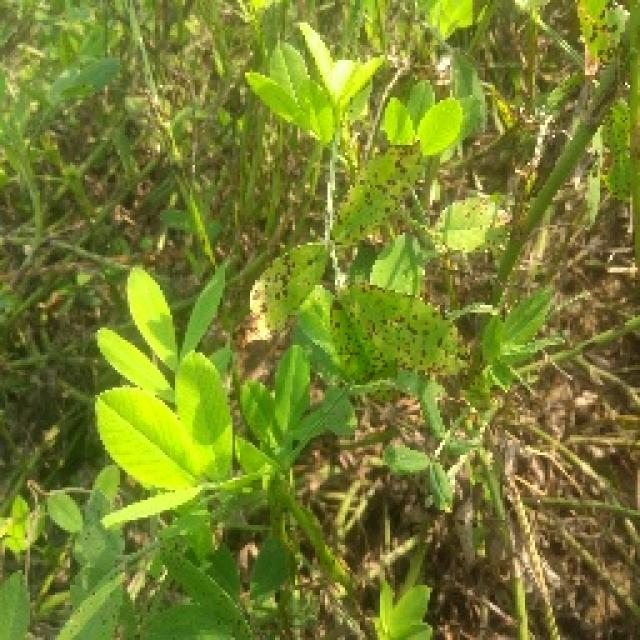Yellowish: (227, 142, 478, 402), (39, 542, 267, 640), (549, 0, 640, 131), (568, 87, 640, 209)
